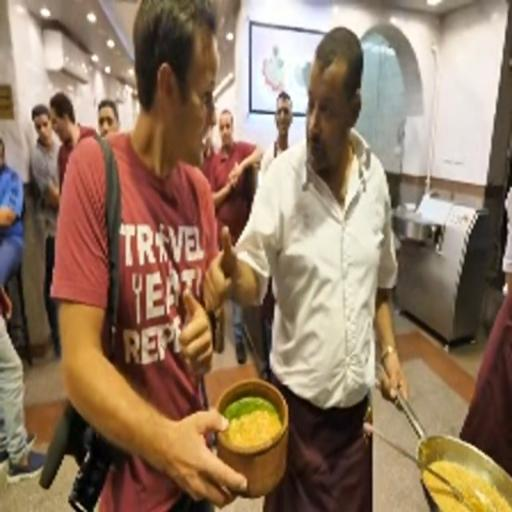nao-violencia: (43, 0, 418, 504)
